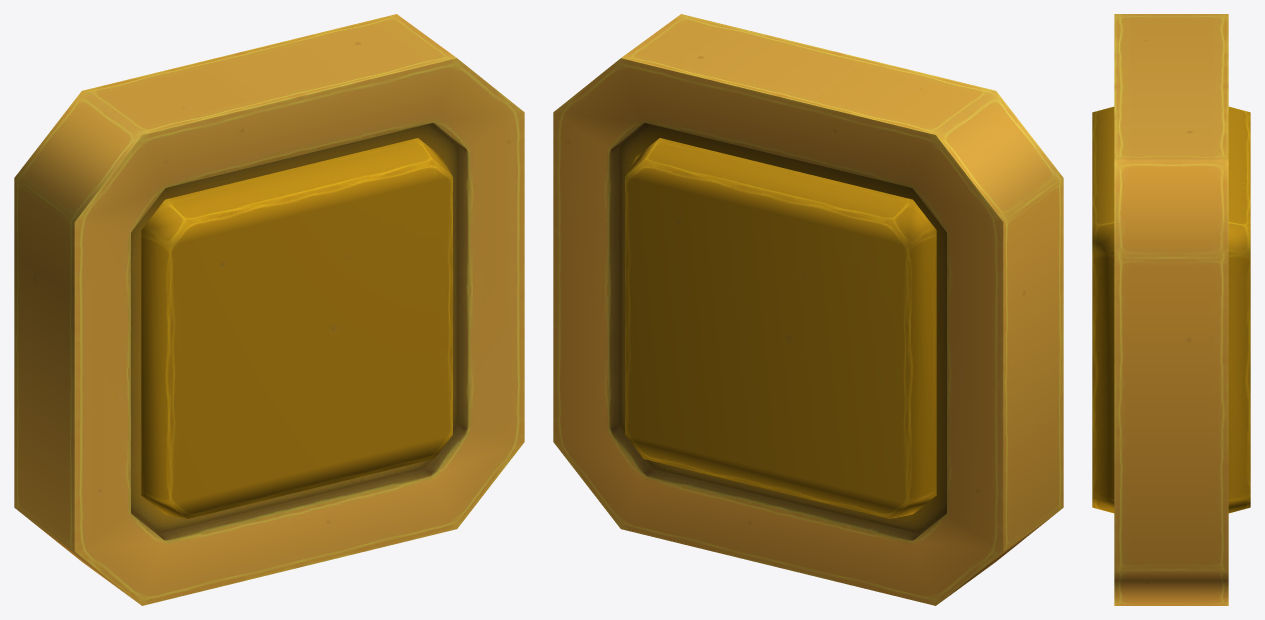
File: SM_Coin_02.glb
3 renders of one model, left to right at view 1: azimuth 30°, elevation 25°; view 2: azimuth 150°, elevation 25°; view 3: azimuth 270°, elevation 25°, orthographic. The views are drawn at different scales.
Visible parts, largest first — view 1: SM_Coin_02; view 2: SM_Coin_02; view 3: SM_Coin_02.
Boxes of the visible parts, x1,y1,x2,y2 form: SM_Coin_02: (14, 14, 524, 605); SM_Coin_02: (553, 14, 1063, 605); SM_Coin_02: (1092, 14, 1250, 605).
Bounding box in the file's own units: 0.5285 × 0.5285 × 0.1698.
1 material, 1 textured.
